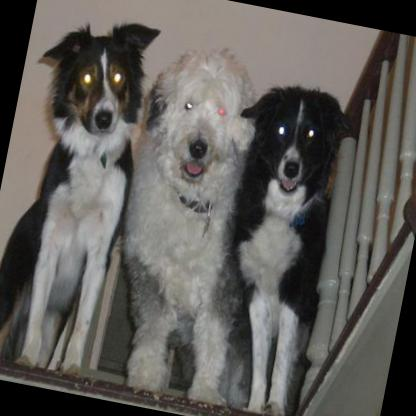Old_English_sheepdog: (91, 35, 308, 408)
